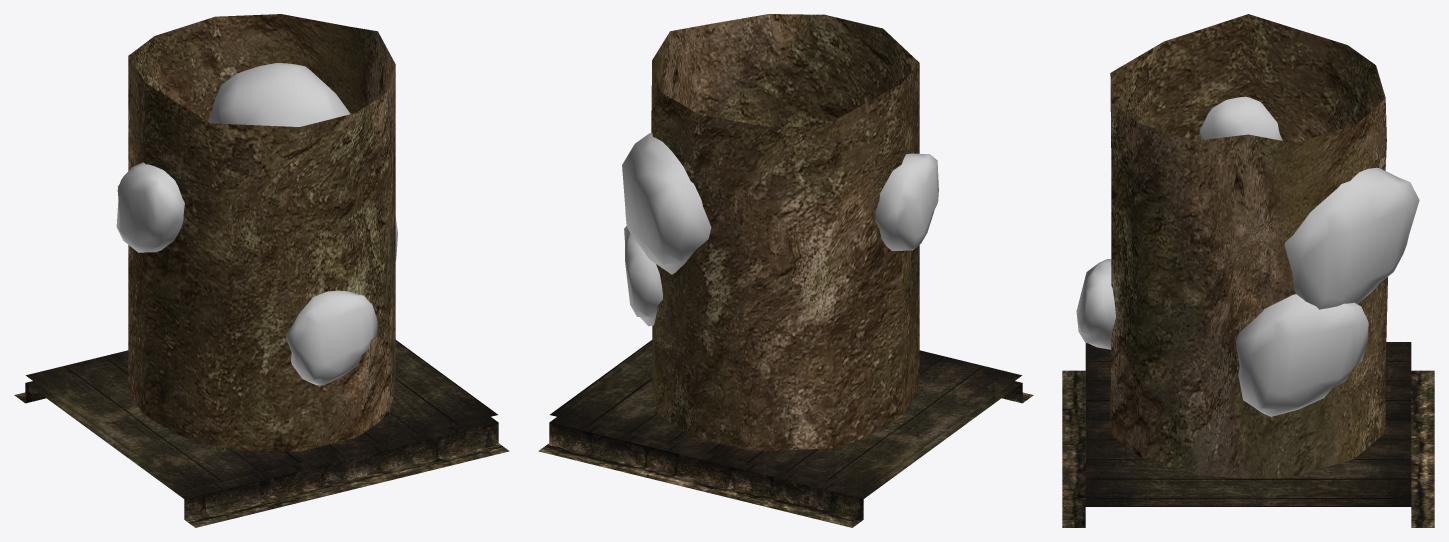
The model's file is default_broken.dae.
3 renders of one model, left to right at view 1: azimuth 30°, elevation 25°; view 2: azimuth 150°, elevation 25°; view 3: azimuth 270°, elevation 25°, orthographic. The views are drawn at different scales.
Parts seen in each view (by area): view 1: pCylinder1, polySurface1, stone_med02_mesh3, stone_med02_mesh, stone_med02_mesh2; view 2: pCylinder1, polySurface1, stone_med02_mesh3, stone_med02_mesh2, stone_med02_mesh1; view 3: pCylinder1, polySurface1, stone_med02_mesh3, stone_med02_mesh1, stone_med02_mesh, stone_med02_mesh2.
Part boxes in pixels (bbox=[...]): pCylinder1: bbox=[128, 14, 395, 451]; polySurface1: bbox=[14, 340, 509, 527]; stone_med02_mesh3: bbox=[208, 63, 350, 126]; stone_med02_mesh: bbox=[286, 290, 377, 385]; stone_med02_mesh2: bbox=[116, 162, 184, 252]; pCylinder1: bbox=[651, 14, 919, 451]; polySurface1: bbox=[538, 340, 1033, 527]; stone_med02_mesh3: bbox=[622, 133, 711, 274]; stone_med02_mesh2: bbox=[875, 153, 938, 250]; stone_med02_mesh1: bbox=[624, 226, 662, 326]; pCylinder1: bbox=[1109, 14, 1387, 478]; polySurface1: bbox=[1062, 342, 1434, 527]; stone_med02_mesh3: bbox=[1284, 167, 1419, 309]; stone_med02_mesh1: bbox=[1235, 294, 1368, 416]; stone_med02_mesh: bbox=[1076, 259, 1115, 349]; stone_med02_mesh2: bbox=[1199, 96, 1282, 140].
Size of the model in its own units: 4 by 4.48 by 4.
